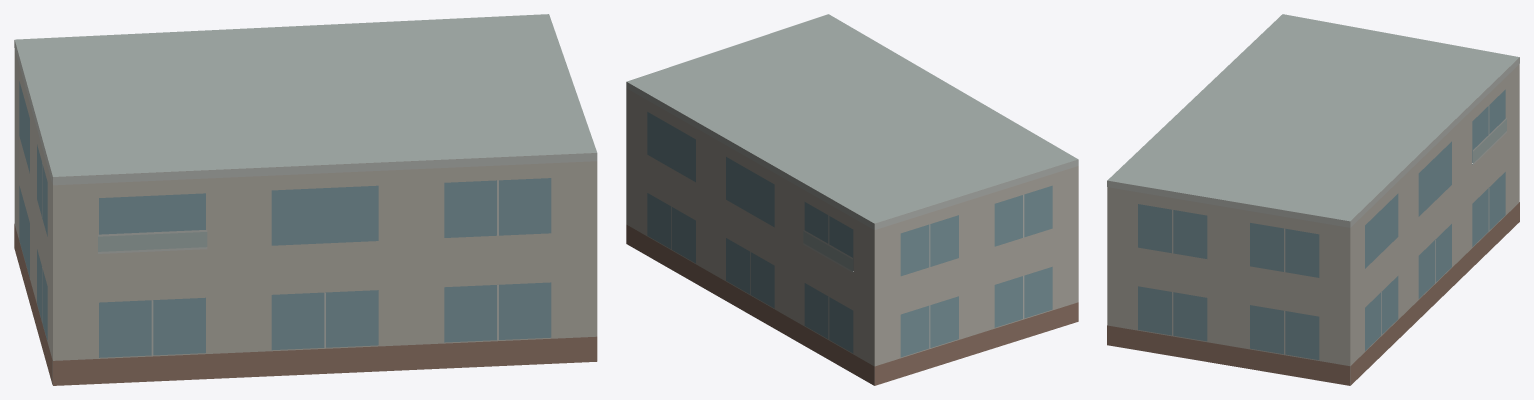
The model's file is survey-upis-32717912.glb.
The picture shows the model from 3 angles, left to right: view 1: azimuth 30°, elevation 25°; view 2: azimuth 150°, elevation 25°; view 3: azimuth 270°, elevation 25°; orthographic projection. The views are drawn at different scales.
Parts seen in each view (by area): view 1: survey-upis-32717912.tmp; view 2: survey-upis-32717912.tmp; view 3: survey-upis-32717912.tmp.
Boxes of the visible parts, bbox=[...] form: survey-upis-32717912.tmp: bbox=[14, 14, 597, 385]; survey-upis-32717912.tmp: bbox=[626, 14, 1078, 385]; survey-upis-32717912.tmp: bbox=[1107, 14, 1519, 385].
Bounding box in the file's own units: 16.49 × 6.1 × 13.87.
